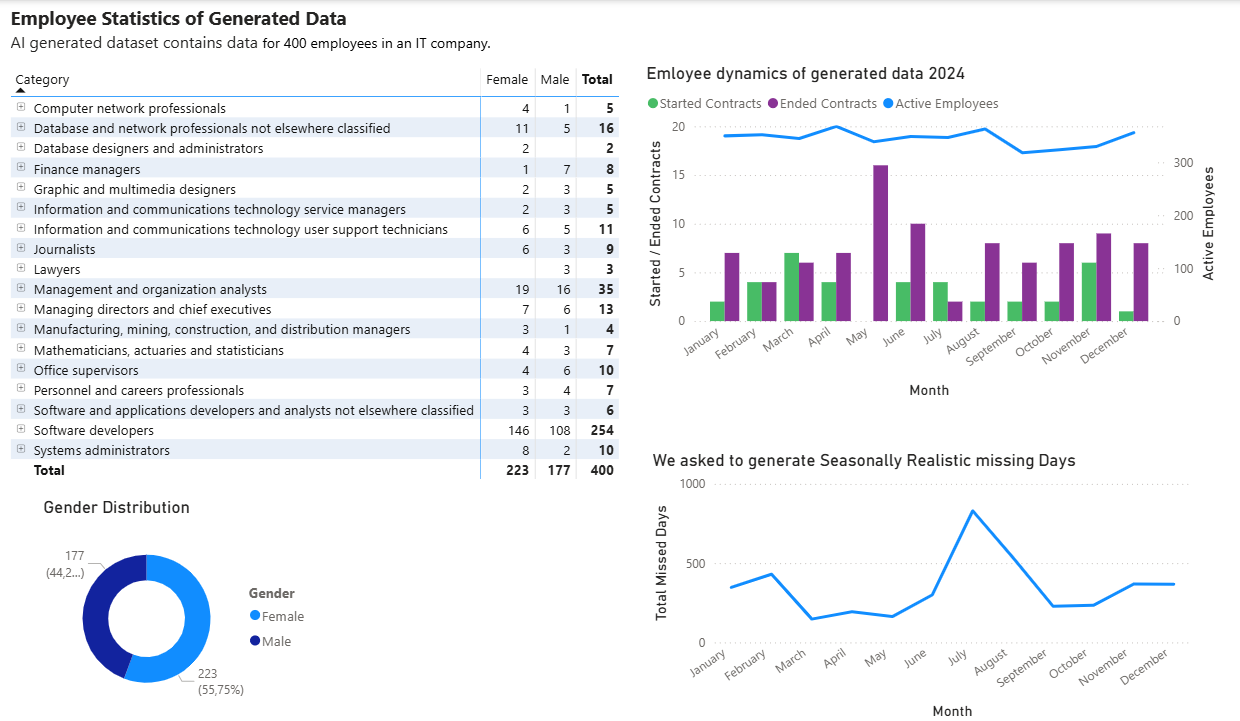

This screenshot's page, from the dashboard's own definition file:
{"tool":"powerbi","page":{"name":"Employee Statistics","canvas":[1280,720],"ordinal":2},"visuals":[{"type":"pivotTable","title":"Employee Distribution by Category","fields":{"Rows":["Contract_Table.Category","Contract_Table.Level","Contract_Table.Position"],"Values":["Contract_Table.Employee_count"],"Columns":["Contract_Table.Gender"]},"box":[42.1,73.4,702.1,639.4],"z":0},{"type":"donutChart","title":"Employee Distribution by Gender","fields":{"Category":["Contract_Table.Gender"],"Y":["Contract_Table.Employee_count"]},"box":[836.4,120.9,322.4,239.1],"z":1000},{"type":"actionButton","box":[0,0,42,40],"z":2000},{"type":"textbox","box":[310.7,7.2,659.1,66.3],"z":3000},{"type":"pivotTable","title":"Employee Distribution by Level","fields":{"Rows":["Contract_Table.Level"],"Columns":["Contract_Table.Gender"],"Values":["Contract_Table.Employee_count"]},"box":[883.5,374.1,228.5,203.8],"z":6000}]}

Visuals, with their boxes on the page's 1280x720 design canvas (x1, y1, x2, y2). These are canvas units, not pixel positions in the 1240x721 screenshot, which may show the page scaled, cropped or inside an application window:
"Employee Distribution by Category" pivotTable: <box>42,73,744,713</box>
"Employee Distribution by Gender" donutChart: <box>836,121,1159,360</box>
actionButton: <box>0,0,42,40</box>
textbox: <box>311,7,970,74</box>
"Employee Distribution by Level" pivotTable: <box>884,374,1112,578</box>
